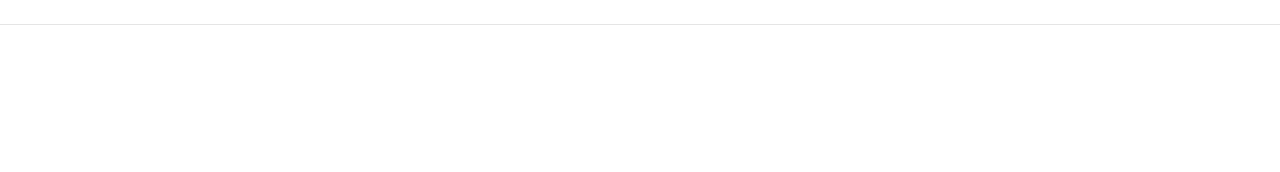
Test: AddSectionDivider › hides add section button when not hovering
Note: Hover to show button
Hover over the element with class "cursor-pointer": (640, 24) top-left (0, 12), bottom-right (1279, 36)
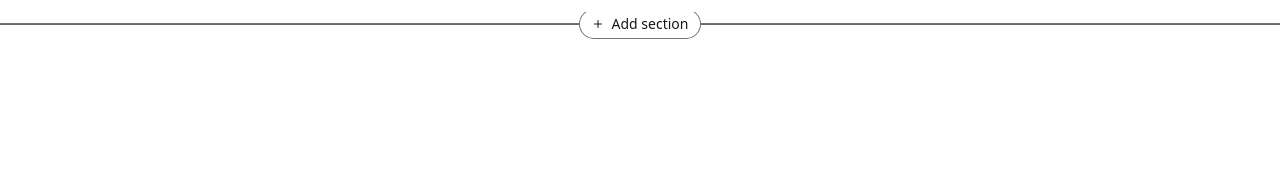
Expected: the text "Add section" is shown, top-left (612, 14), bottom-right (688, 34)
Note: Mouse leave should hide button
Move the pointer off the element with class "cursor-pointer", box top-left (0, 12), bottom-right (1279, 36)
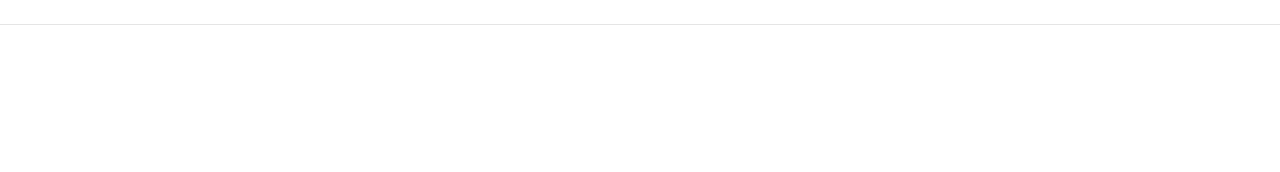
Expected: the text "Add section" is gone
